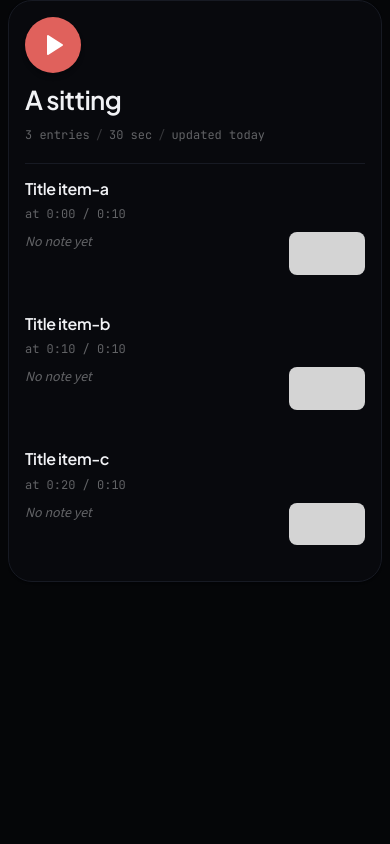
Scenario: SharedCollection full screen › fills the viewport itself where the browser has no full screen
Click the button named "Play the whole collection": (53, 45) [25,17,81,73]
Wait 2 ms
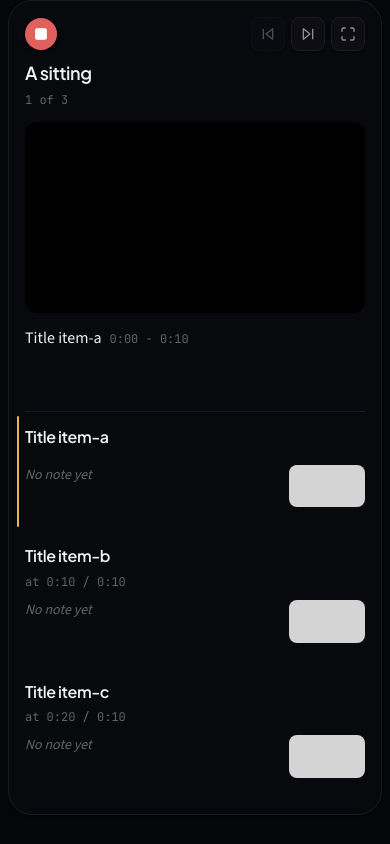
Click the button named "full screen": (348, 34) [331,17,365,51]
Wait 1 ms
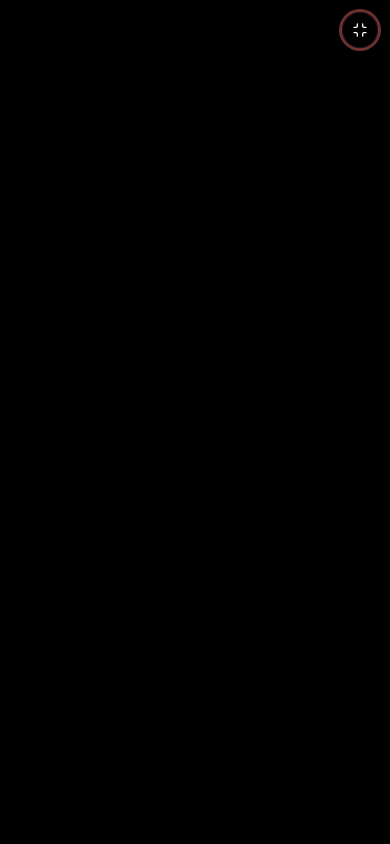
Check: the button named "Exit full screen" is shown, box [342,12,378,48]
